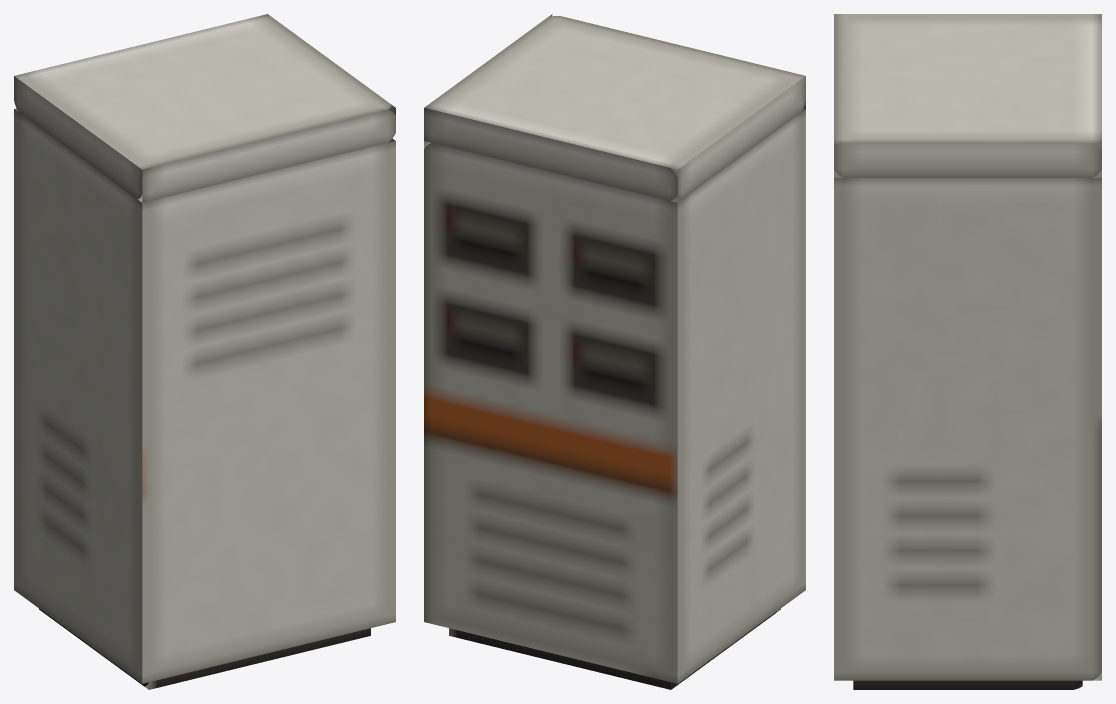
Rendered from era5_compact_floppy_bay.obj.
3 renders of one model, left to right at view 1: azimuth 30°, elevation 25°; view 2: azimuth 150°, elevation 25°; view 3: azimuth 270°, elevation 25°, orthographic. The views are drawn at different scales.
Parts seen in each view (by area): view 1: era5_compact_floppy_bay; view 2: era5_compact_floppy_bay; view 3: era5_compact_floppy_bay.
Part boxes in pixels (box(x1,y1,x2,y2)): era5_compact_floppy_bay: box(14, 14, 395, 689); era5_compact_floppy_bay: box(424, 14, 805, 689); era5_compact_floppy_bay: box(834, 14, 1101, 689).
Bounding box in the file's own units: 1 × 2 × 0.875.
